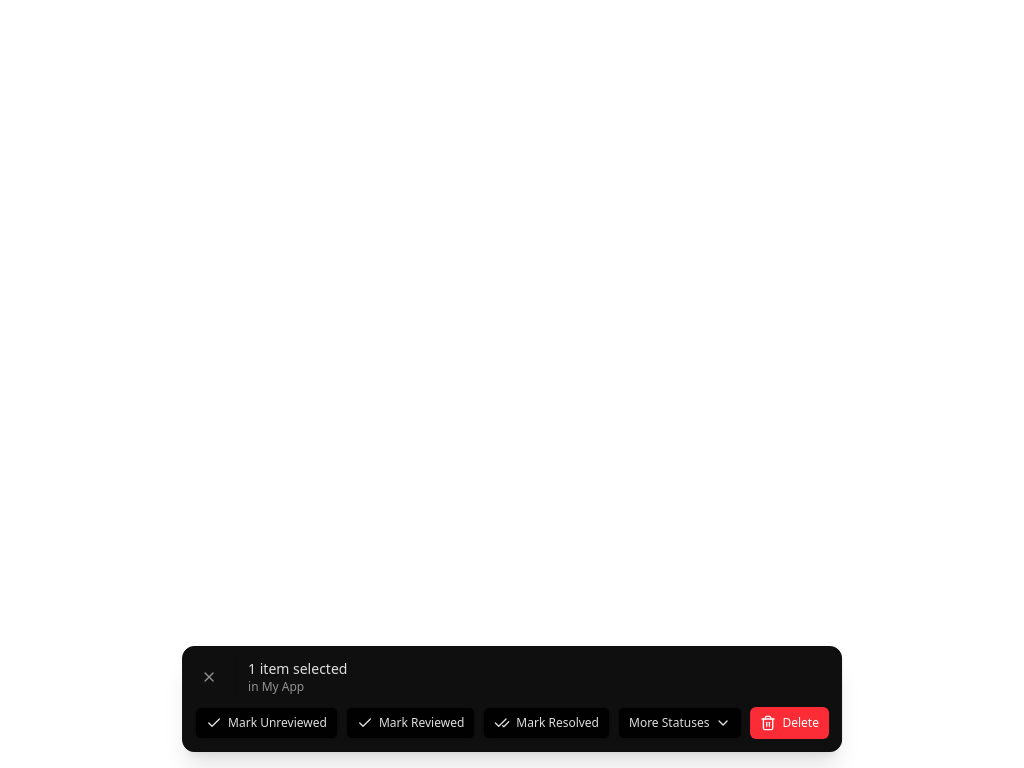
Test: BulkActionBar › delete confirmation modal › shows singular delete text for count=1 in a single project
Step 1. Click the button "Delete" → click(790, 723), box [750,707,829,739]
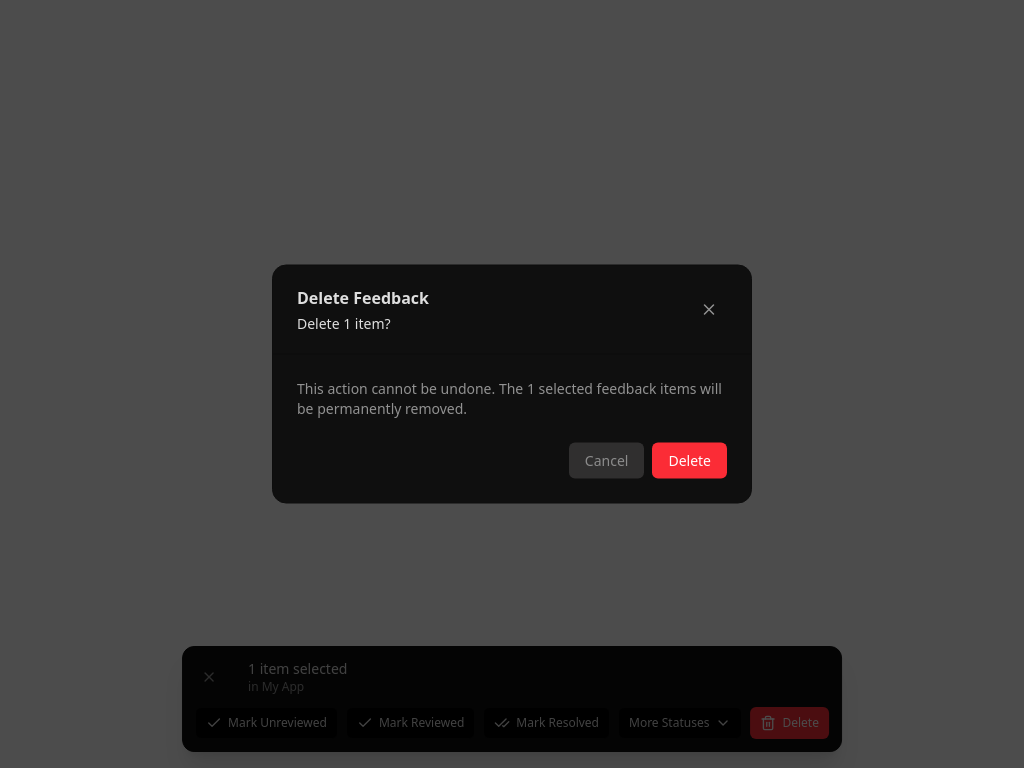
expect the text "Delete 1 item?" is shown: met, box [297,314,391,332]
